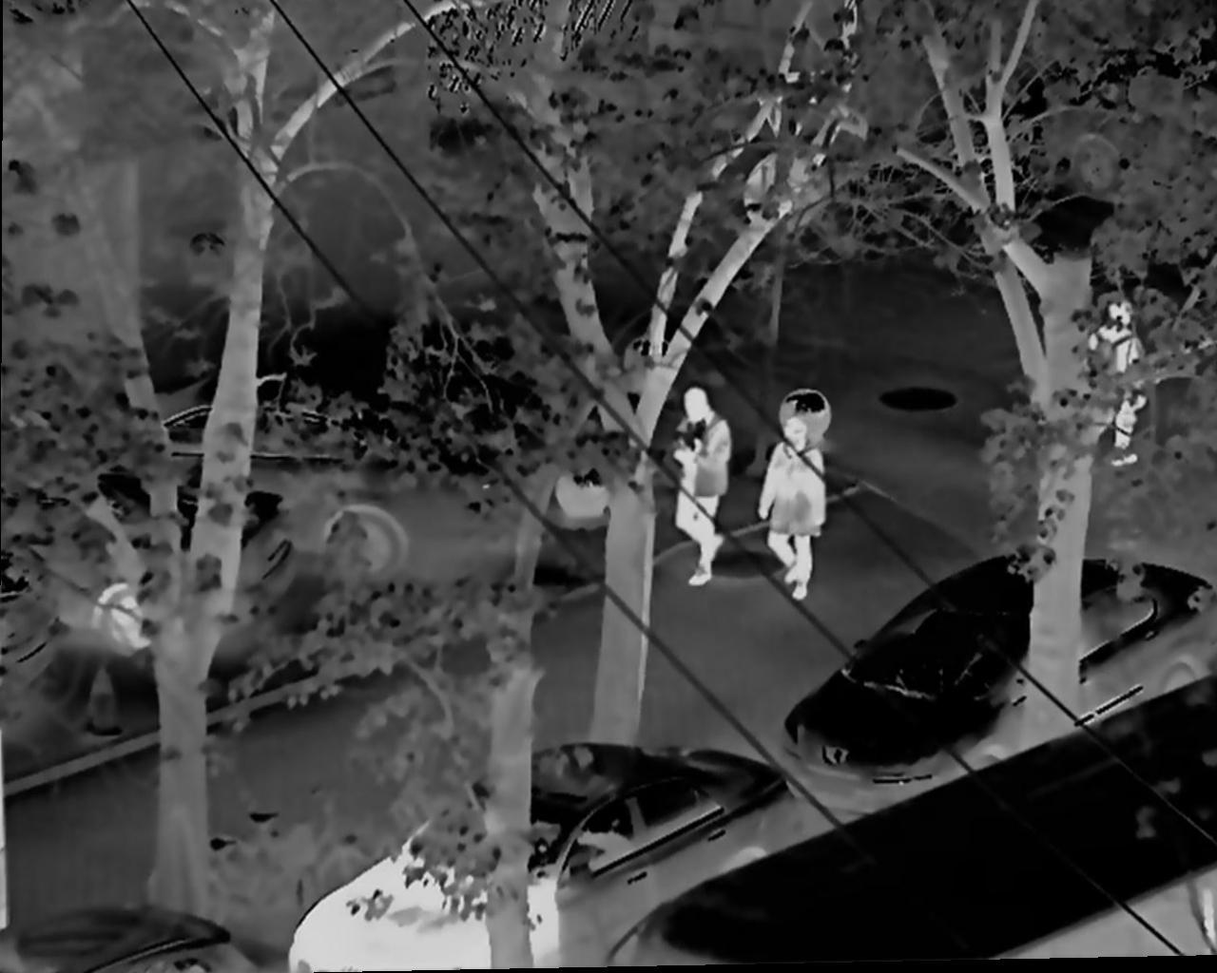person: (755, 418, 826, 599), (666, 387, 728, 585), (1094, 301, 1135, 471)
